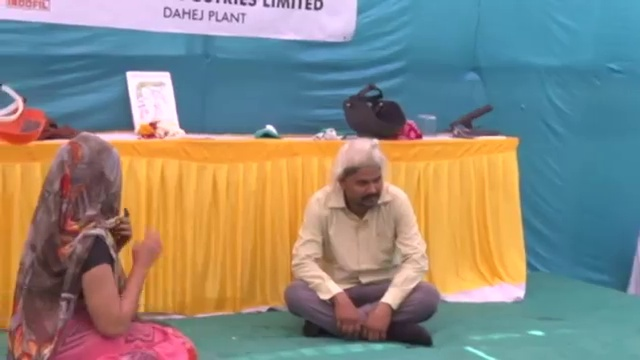helmet_off: (44, 141, 130, 224), (336, 143, 386, 212)
person: (6, 134, 197, 360), (287, 139, 442, 346)
